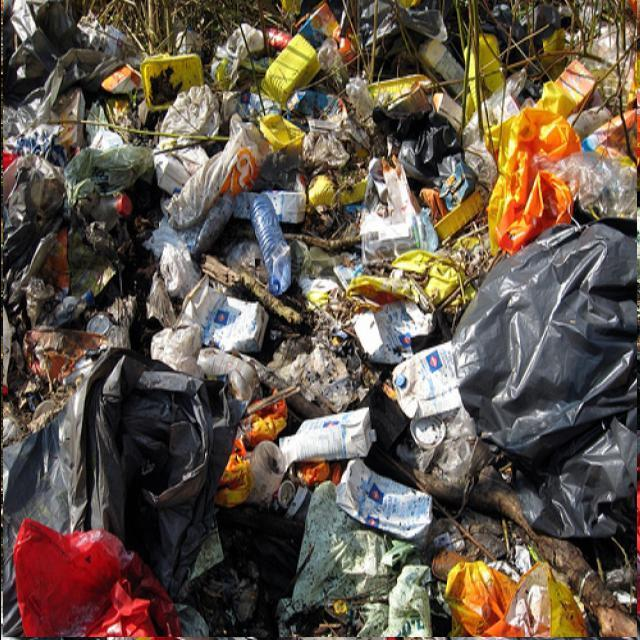Trashbag: (446, 224, 640, 517), (2, 348, 218, 572)
